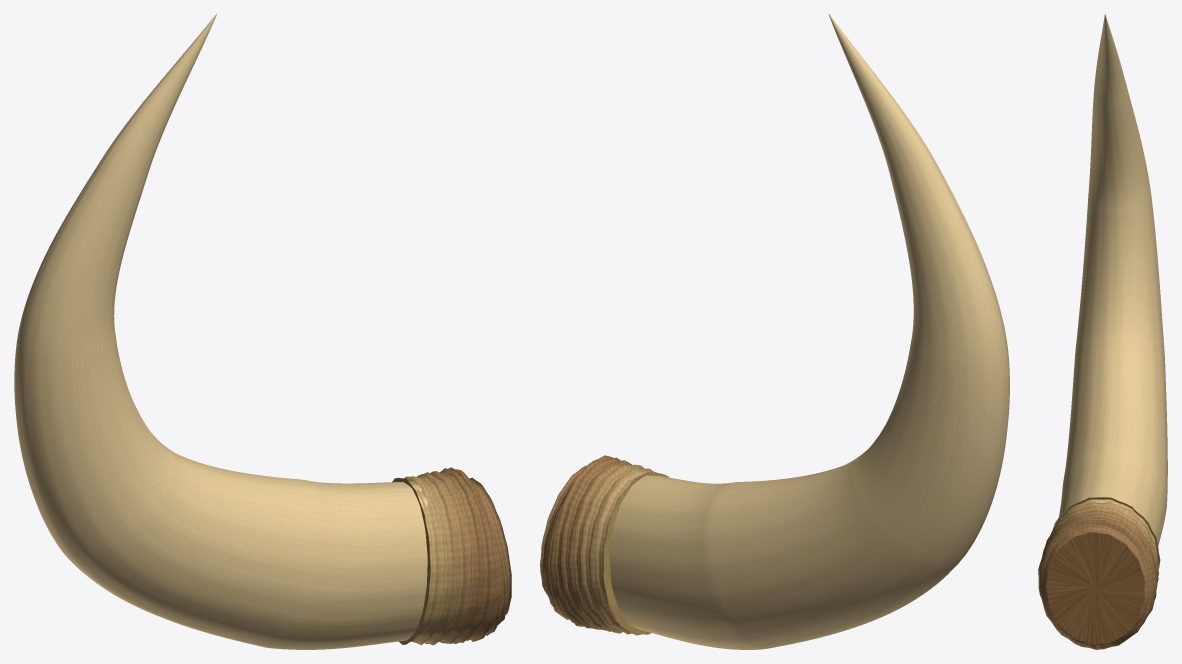
Rendered from curved_tusk.glb.
The picture shows the model from 3 angles, left to right: view 1: azimuth 30°, elevation 25°; view 2: azimuth 150°, elevation 25°; view 3: azimuth 270°, elevation 25°; orthographic projection. The views are drawn at different scales.
Parts seen in each view (by area): view 1: Yellow ivory fine longitudinal grain, Tusk brown cementum root ridges; view 2: Yellow ivory fine longitudinal grain, Tusk brown cementum root ridges; view 3: Yellow ivory fine longitudinal grain, Tusk brown cementum root ridges.
Boxes of the visible parts, bbox=[...] form: Yellow ivory fine longitudinal grain: bbox=[14, 14, 427, 649]; Tusk brown cementum root ridges: bbox=[392, 467, 511, 645]; Yellow ivory fine longitudinal grain: bbox=[610, 14, 1009, 649]; Tusk brown cementum root ridges: bbox=[540, 455, 668, 635]; Yellow ivory fine longitudinal grain: bbox=[1059, 14, 1167, 545]; Tusk brown cementum root ridges: bbox=[1038, 497, 1160, 649].
Bounding box in the file's own units: 0.314 × 0.4447 × 0.097.
2 materials, 2 textured.
